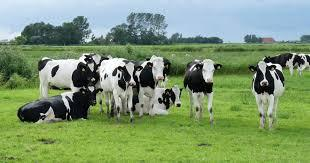cow: (17, 88, 103, 124), (99, 58, 143, 122), (249, 60, 285, 130), (183, 59, 222, 123), (38, 57, 97, 98), (139, 86, 185, 116), (137, 57, 171, 90), (263, 53, 300, 76), (79, 53, 109, 72), (296, 54, 310, 76)
